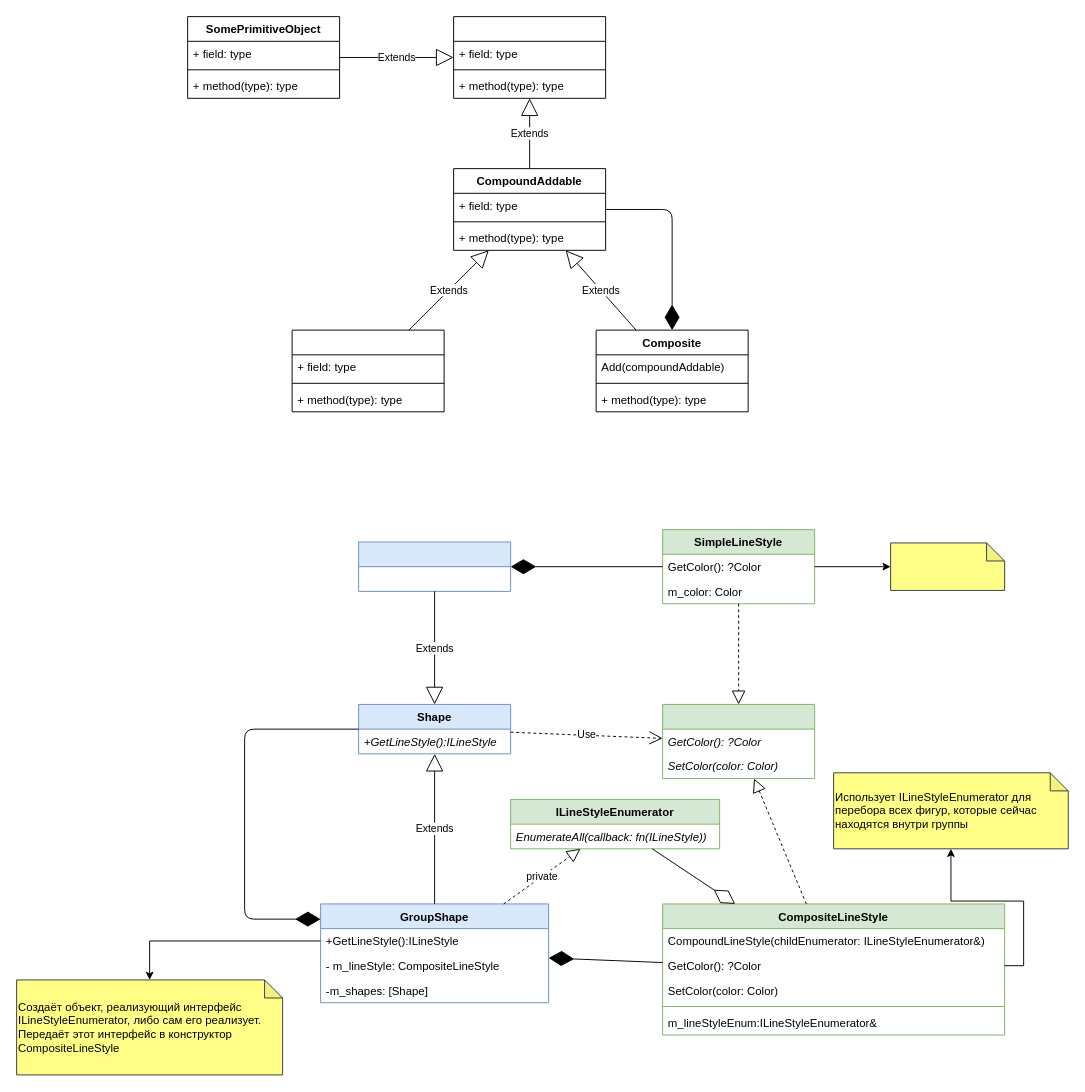
The diagram is 1085 pixels wide and 1092 high, and some of its shapes have lost their labels. Here are the shapes that lost their labels. From the top down, the box of each, then its label:
(453, 16, 606, 98): Component
(291, 329, 444, 412): Ellipse
(358, 541, 511, 591): SimpleShape
(890, 542, 1005, 590): return m_color;
(662, 703, 815, 779): ILineStyle
